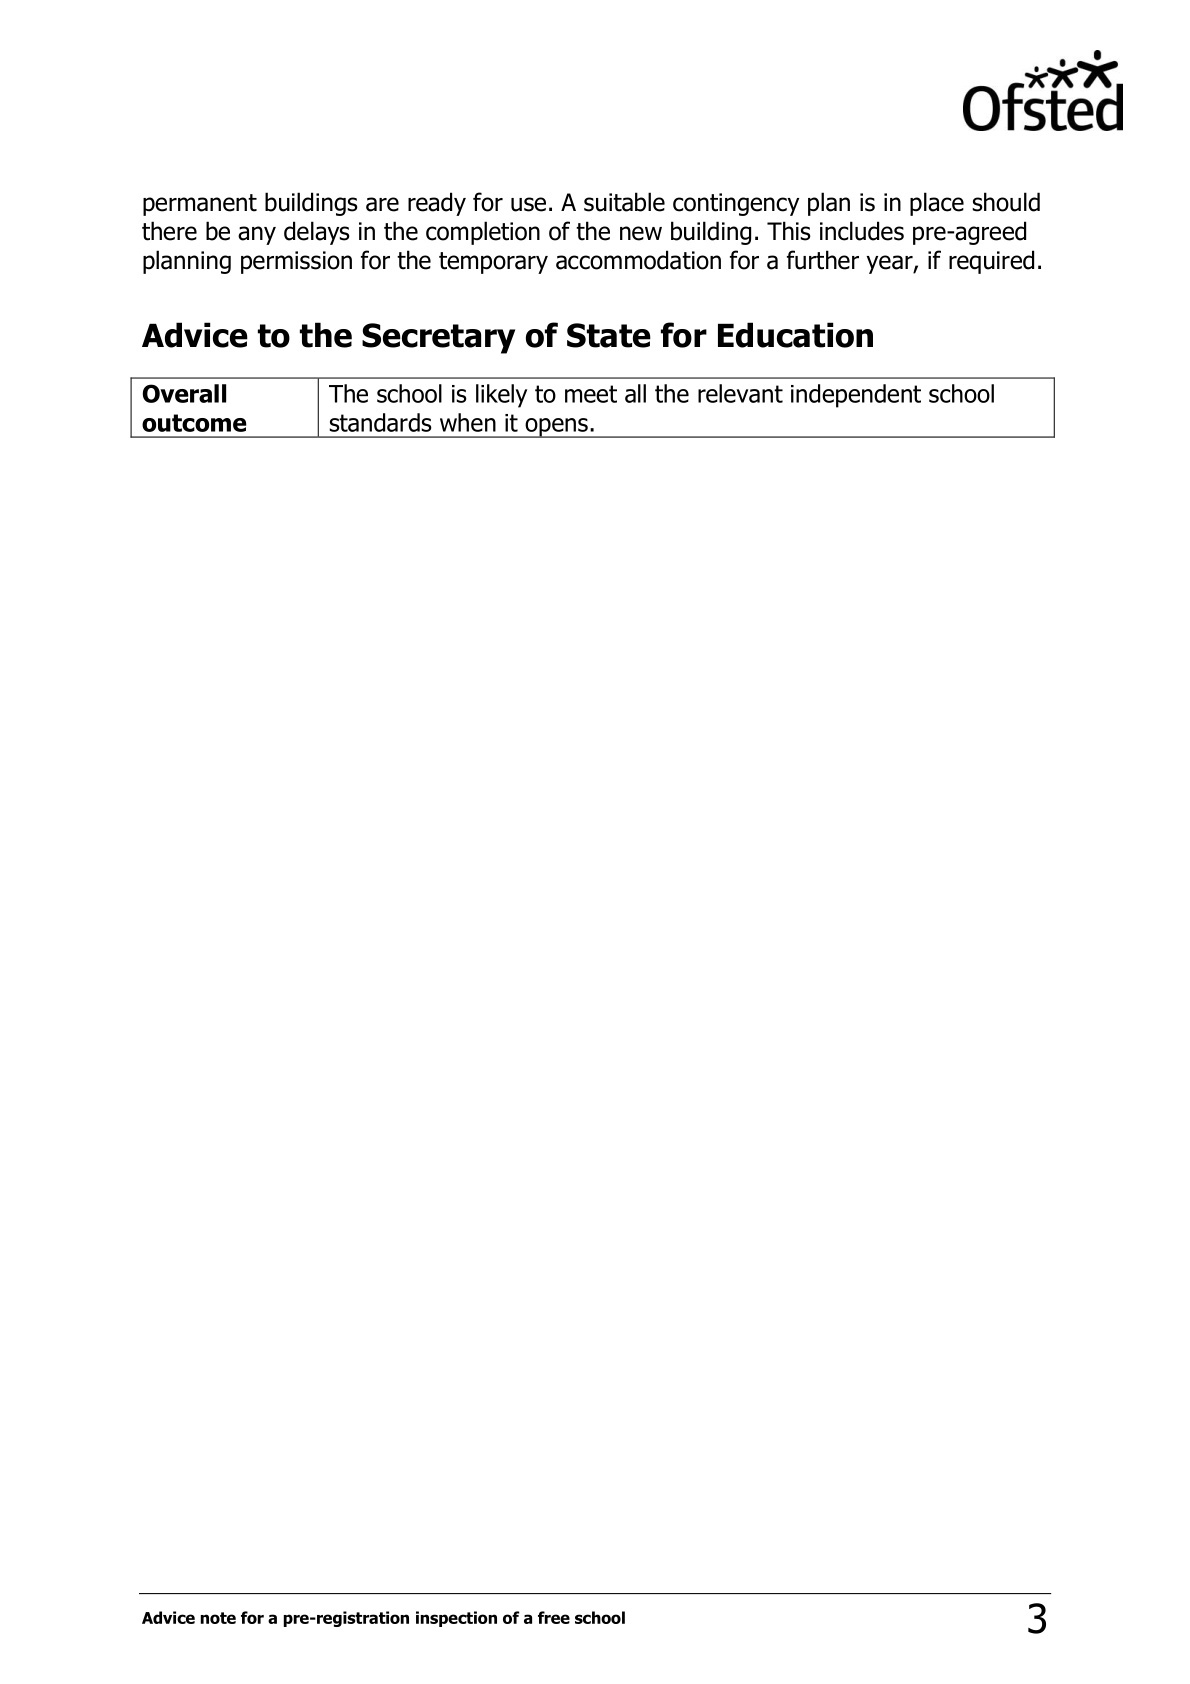full_lined: (130, 377, 1055, 438)
